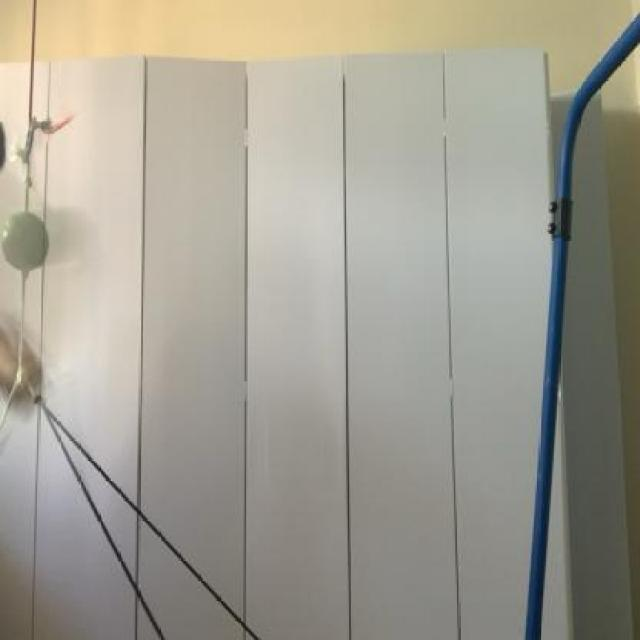baseball: (0, 196, 58, 289)
